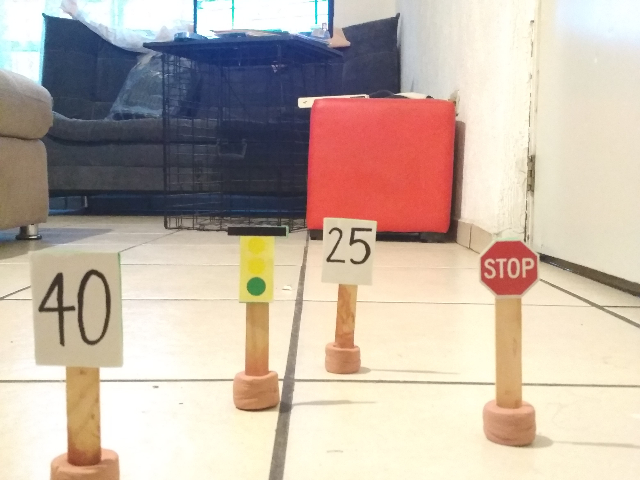Green: (224, 222, 291, 304)
Limit 25: (317, 215, 380, 290)
Limit 40: (25, 243, 129, 372)
Stop: (476, 237, 542, 299)
